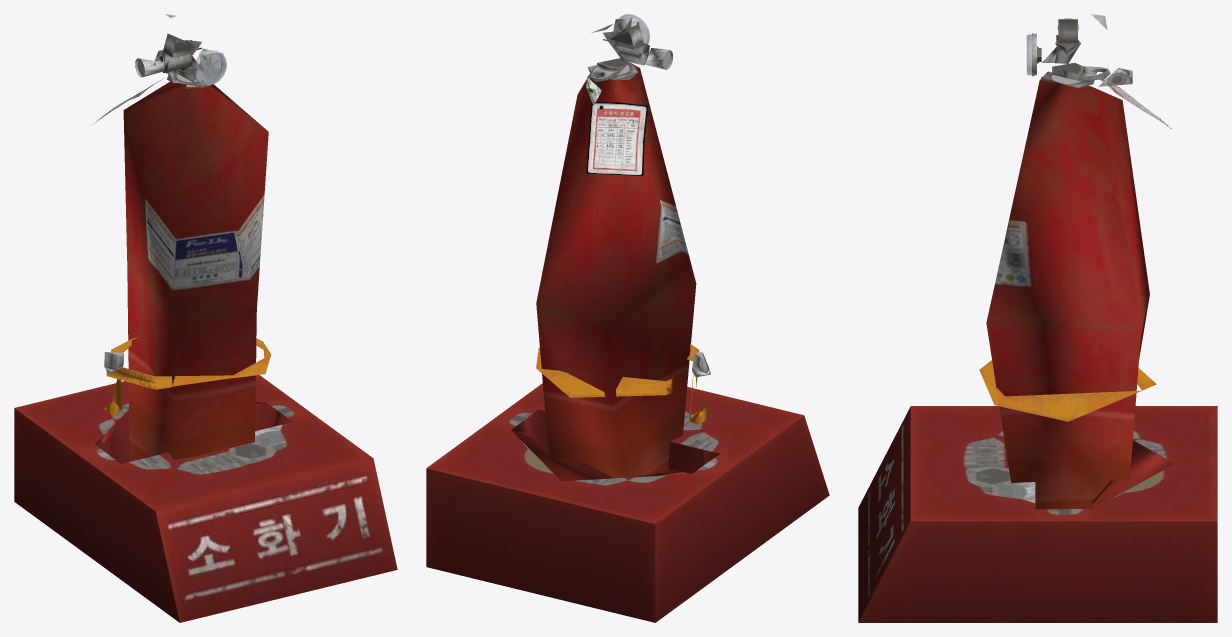
File: korean_fire_extinguisher_01.glb
3 views of the same model, side by side, from view 1: azimuth 30°, elevation 25°; view 2: azimuth 150°, elevation 25°; view 3: azimuth 270°, elevation 25° (orthographic). The views are drawn at different scales.
Visible parts, largest first — view 1: korean_fire_extinguisher_01; view 2: korean_fire_extinguisher_01; view 3: korean_fire_extinguisher_01.
Boxes of the visible parts, <box> form: korean_fire_extinguisher_01: <box>14,14,397,622</box>; korean_fire_extinguisher_01: <box>426,14,829,622</box>; korean_fire_extinguisher_01: <box>858,14,1217,622</box>.
Size of the model in its own units: 0.279 by 0.6157 by 0.3674.
3 materials, 3 textured.
